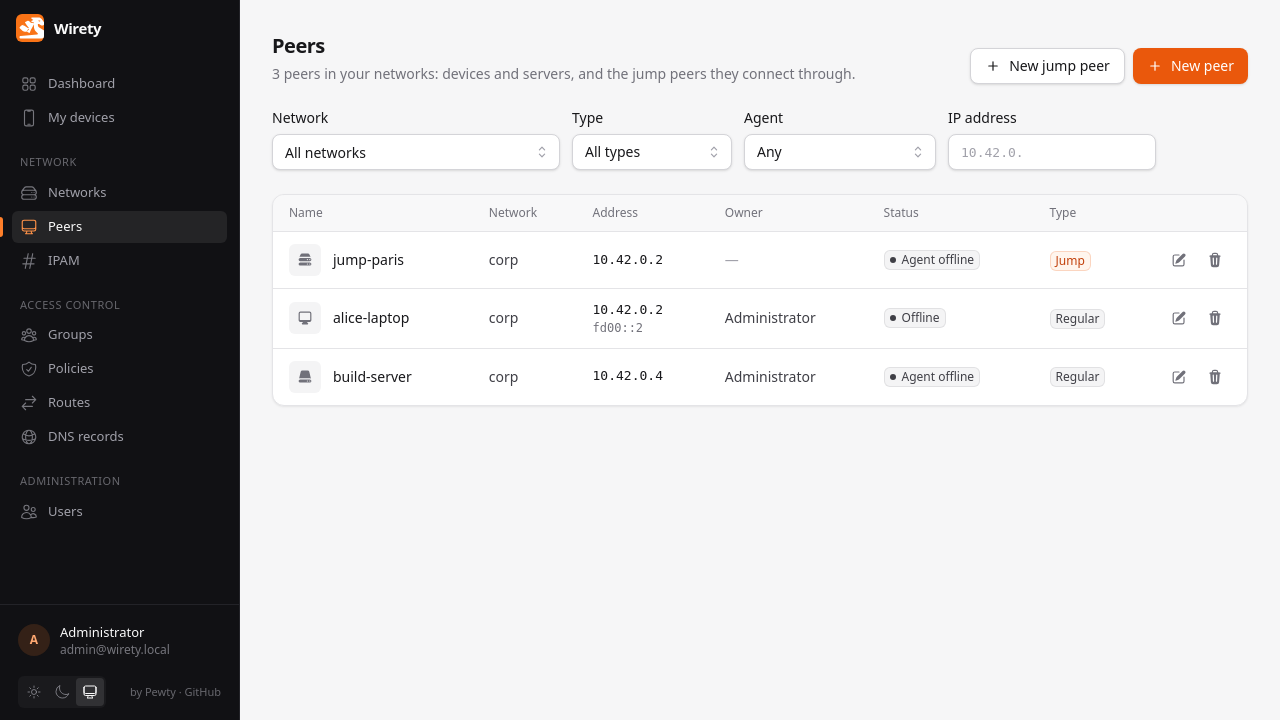
it: Peer details › copies the agent token of a peer using the agent
Click the text "build-server" at (372,377), box x1=333 y1=367 x2=412 y2=387
(page scrolled)
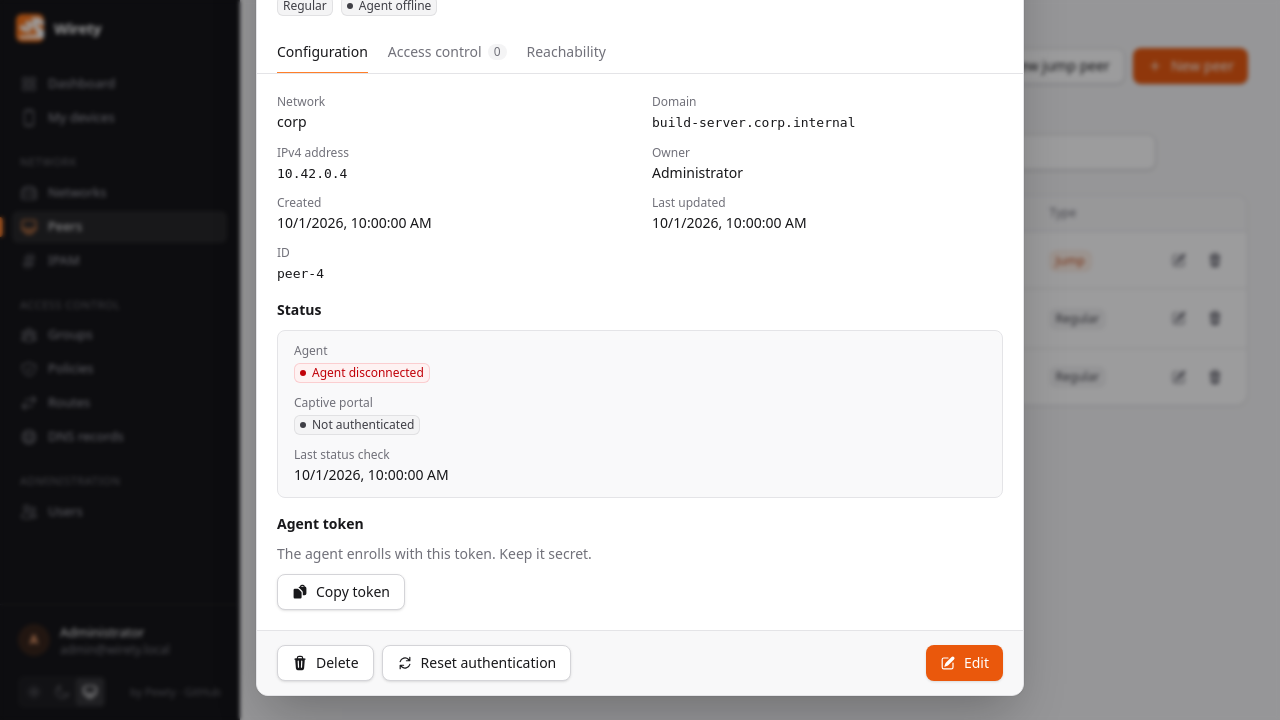
Click the button "Copy token" at (341,592), box x1=277 y1=574 x2=405 y2=610
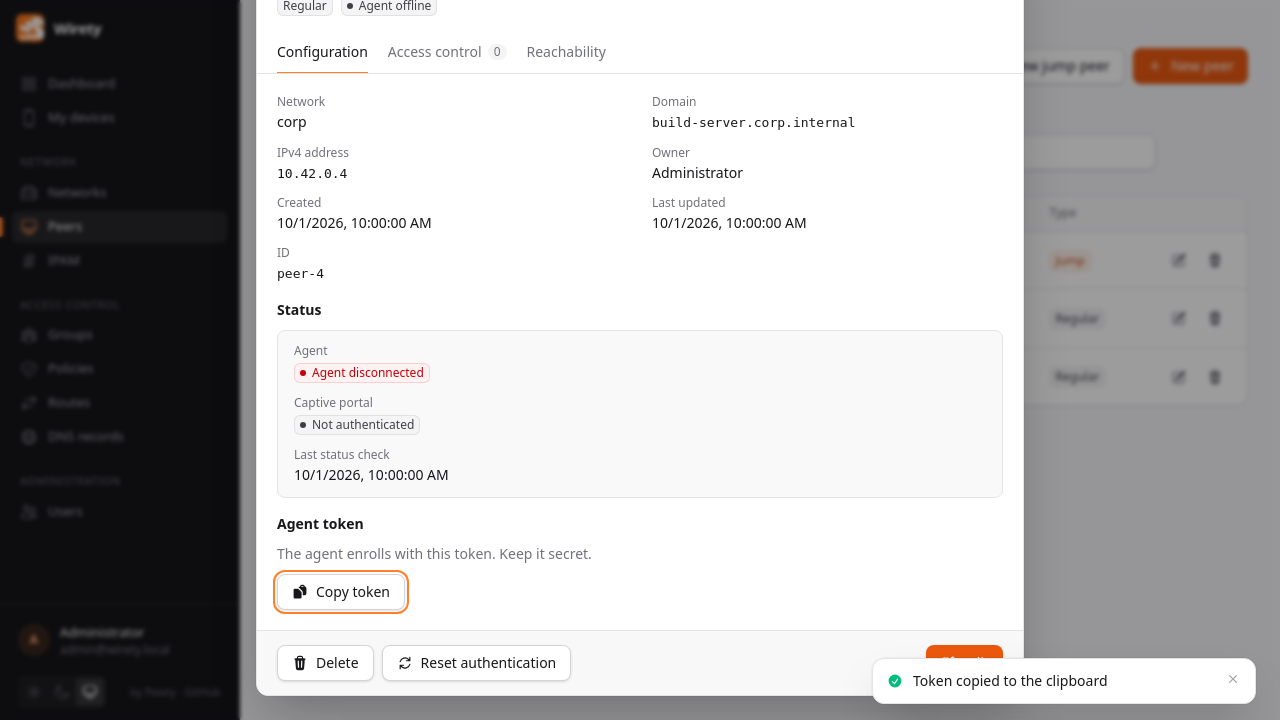
Expected: the text "Token copied to the clipboard" is shown, x1=913 y1=671 x2=1108 y2=690
